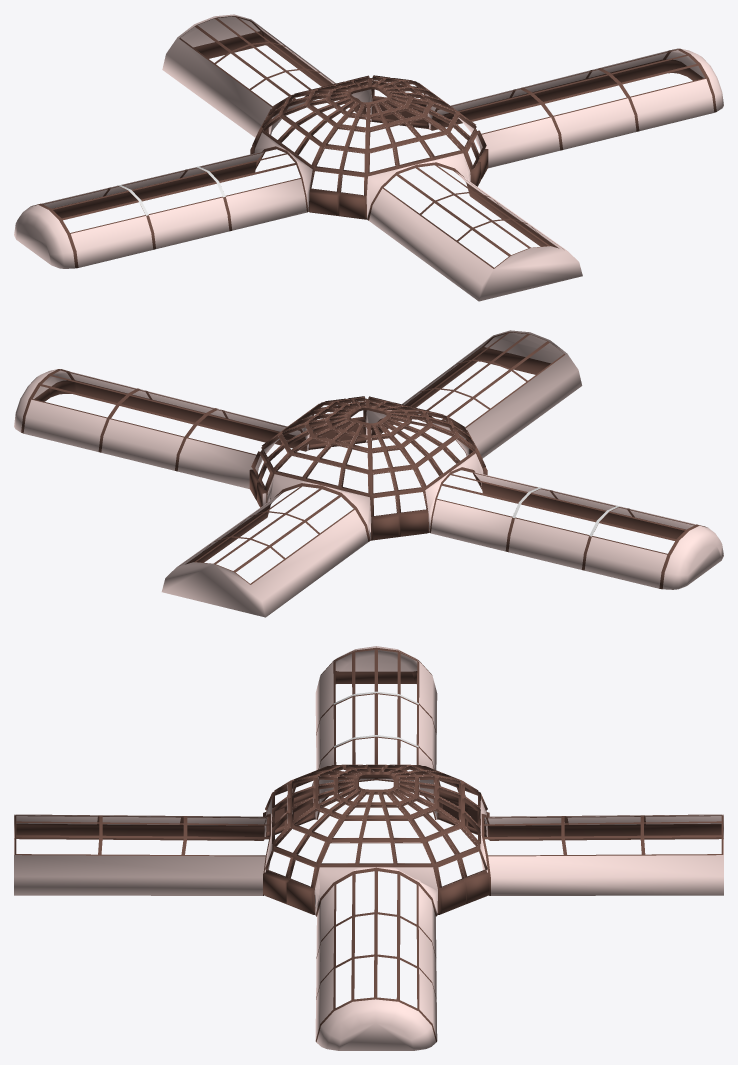
File: mall roof no windows.fbx
3 renders of one model, top to bottom at view 1: azimuth 30°, elevation 25°; view 2: azimuth 150°, elevation 25°; view 3: azimuth 270°, elevation 25°, orthographic. The views are drawn at different scales.
Parts seen in each view (by area): view 1: roof; view 2: roof; view 3: roof.
Boxes of the visible parts, box(x1,y1,x2,y2) form: roof: box(14, 14, 723, 301); roof: box(14, 330, 723, 617); roof: box(14, 646, 723, 1050).
Size of the model in its own units: 2766 by 303 by 2259.
